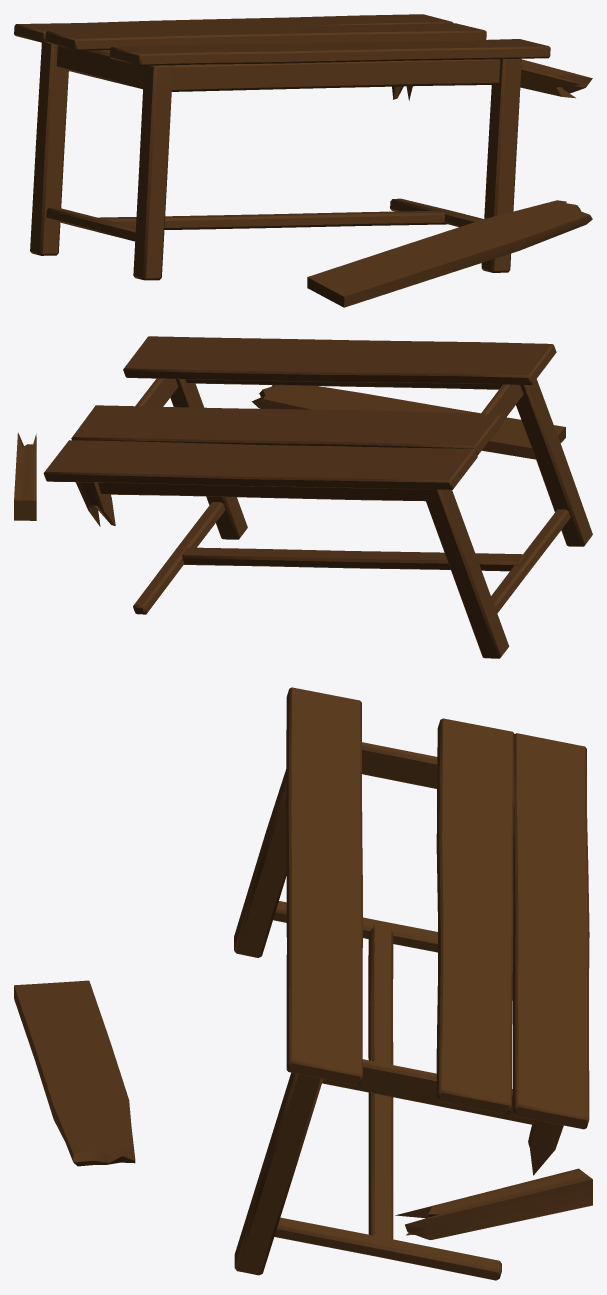
The model's file is tisch_kaputt.glb.
3 views of the same model, one above another, from view 1: azimuth 30°, elevation 25°; view 2: azimuth 150°, elevation 25°; view 3: azimuth 270°, elevation 25° (orthographic). The views are drawn at different scales.
Parts seen in each view (by area): view 1: tisch_kaputt; view 2: tisch_kaputt; view 3: tisch_kaputt.
Boxes of the visible parts, box(x1,y1,x2,y2) form: tisch_kaputt: box(14, 14, 592, 307); tisch_kaputt: box(14, 336, 592, 658); tisch_kaputt: box(14, 687, 592, 1280).
Size of the model in its own units: 2 by 1.08 by 1.49.
